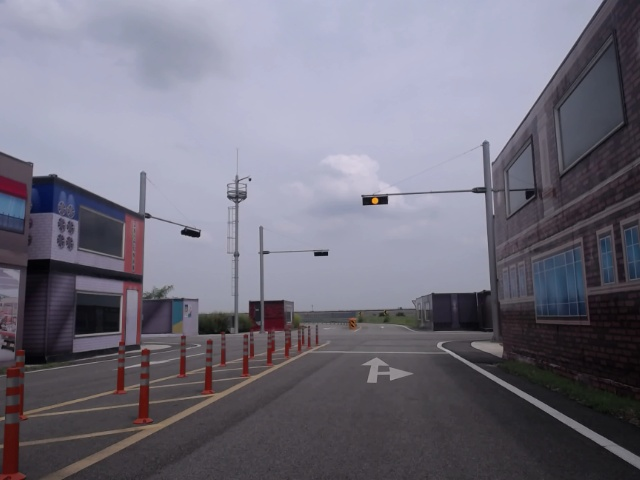orange_3: (362, 196, 388, 205)
